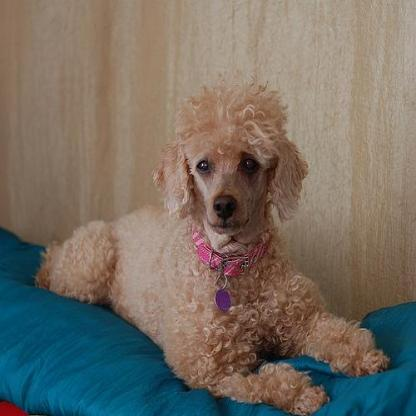miniature_poodle: (32, 64, 391, 412)
